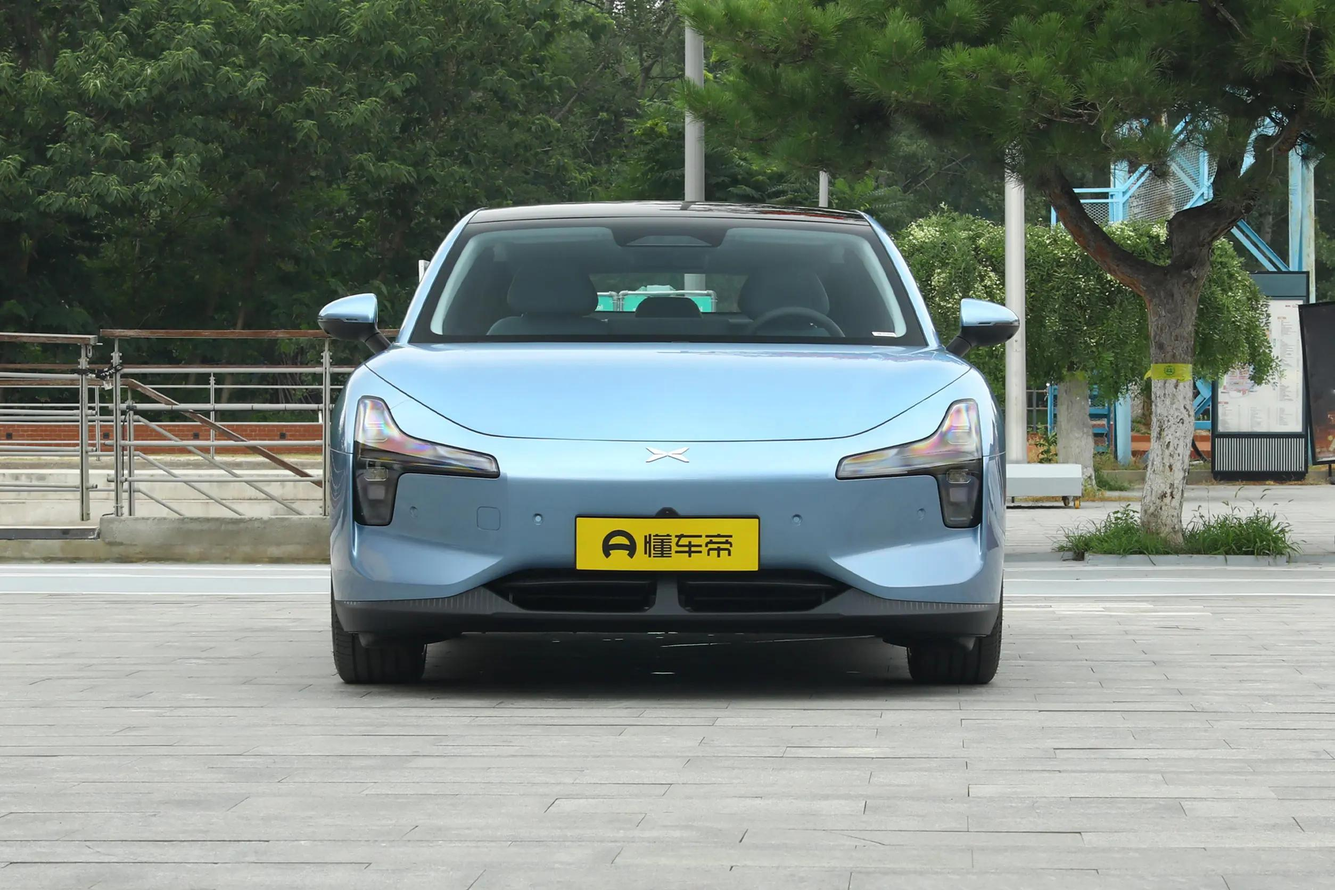XPeng Motors: (645, 447, 690, 463)
